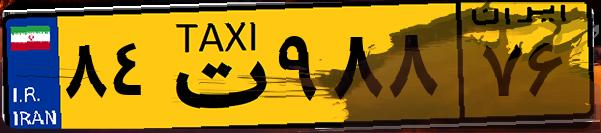4: (110, 28, 158, 98)
6: (525, 38, 570, 115)
7: (475, 38, 525, 113)
8: (385, 28, 445, 110), (330, 28, 385, 110), (57, 26, 110, 100)
9: (270, 28, 330, 110)
ت: (158, 12, 270, 120)
